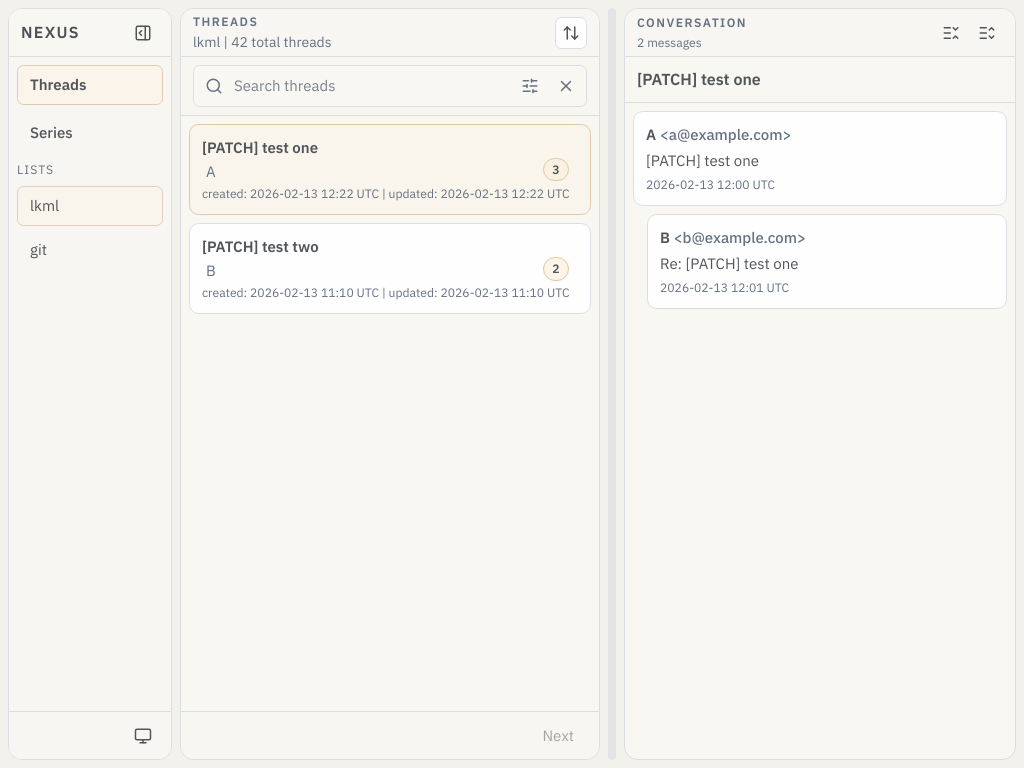
ThreadsWorkspace › expand all expands message and diff cards without updating URL
The width and height of the screenshot is (1024, 768).
Click the button named "Expand all message cards and diff cards": [987, 32] box [971,16,1003,48]
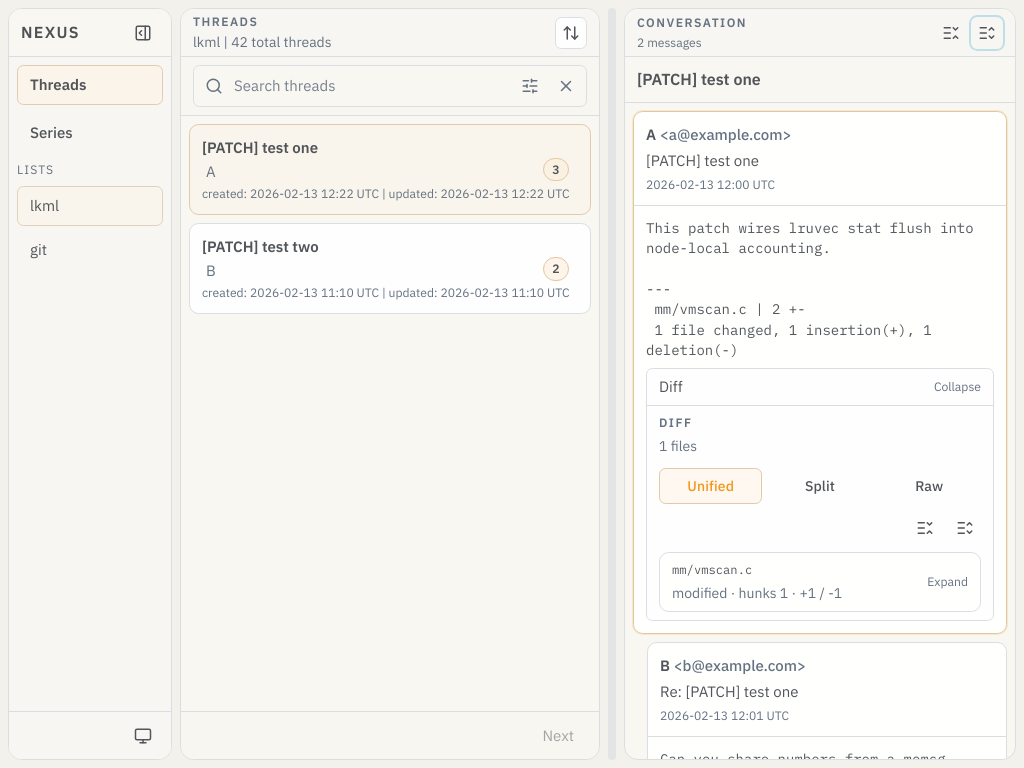
Now the text "This patch wires lruvec stat flush" is shown, box [646,219,982,257]
Now the button with aria-label "Toggle diff card: [PATCH] test one" shows "Collapse", box [647,369,993,406]
